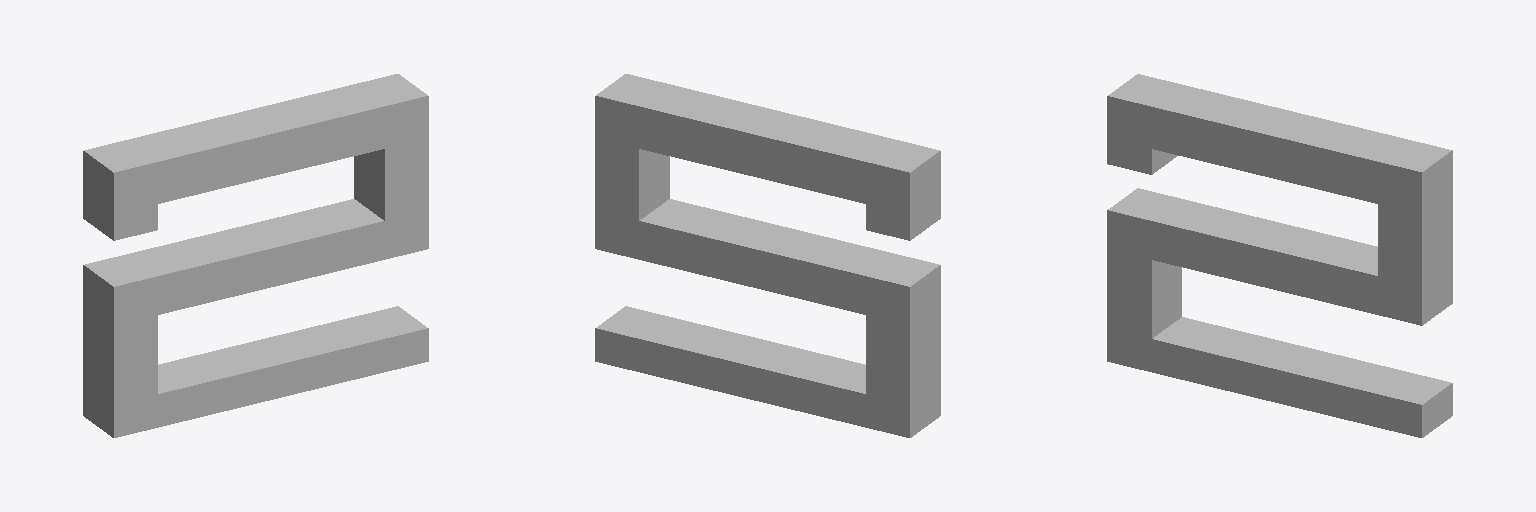
Rendered from two.obj.
The picture shows the model from 3 angles: view 1: azimuth 30°, elevation 25°; view 2: azimuth 150°, elevation 25°; view 3: azimuth 330°, elevation 25°; orthographic projection.
Parts seen in each view (by area): view 1: Cube.002_Cube.003; view 2: Cube.002_Cube.003; view 3: Cube.002_Cube.003.
Boxes of the visible parts, <box> form: Cube.002_Cube.003: <box>83,74,428,437</box>; Cube.002_Cube.003: <box>595,74,940,437</box>; Cube.002_Cube.003: <box>1107,74,1452,437</box>.
Bounding box in the file's own units: 0.5993 × 0.4841 × 0.1.